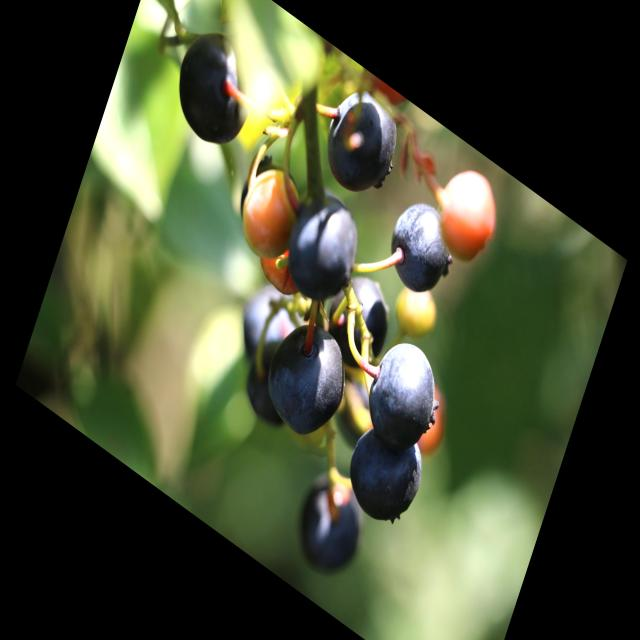blueberry: (259, 304, 359, 455), (271, 174, 371, 324), (308, 69, 406, 214), (168, 15, 265, 160), (358, 322, 452, 464), (335, 406, 433, 542), (281, 458, 377, 595), (316, 258, 402, 384), (375, 184, 461, 308), (228, 260, 312, 386)
blueberry-halfripe: (232, 153, 306, 269), (429, 155, 503, 268)
